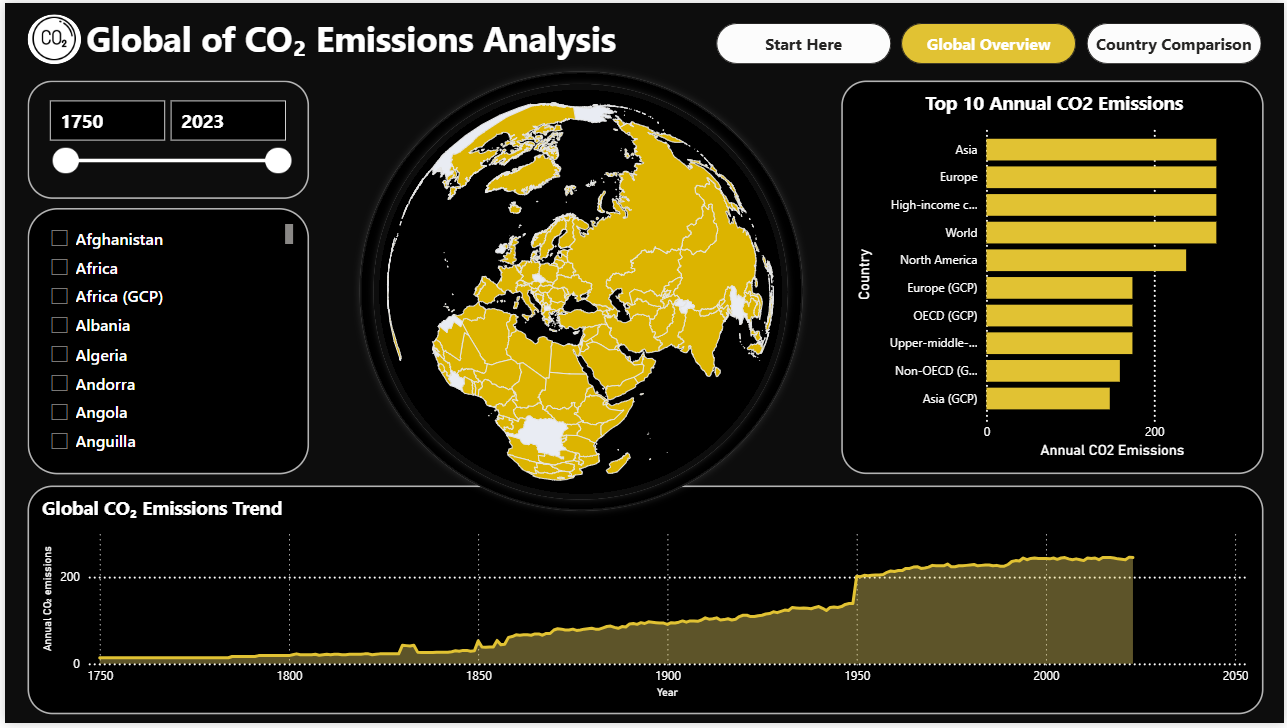

The page's visual inventory and layout, read from the dashboard file:
{"tool":"powerbi","page":{"name":"Global Overview","canvas":[1280,720],"ordinal":1},"visuals":[{"type":"areaChart","title":"Global CO₂ Emissions Trend","fields":{"Category":["annual-co2-emissions-per-country.Year"],"Y":["CountNonNull(annual-co2-emissions-per-country.Annual CO₂ emissions)"]},"box":[22.5,482.5,1236.2,228.8],"z":0},{"type":"textbox","title":"Global of CO₂ Emissions Analysis","box":[76.2,11.2,650,50],"z":1000},{"type":"shape","box":[347.5,61.2,457.5,453.8],"z":2000},{"type":"shape","box":[361.2,73.8,428.8,430],"z":3000},{"type":"slicer","fields":{"Values":["annual-co2-emissions-per-country.Country"]},"box":[22.5,205,281.2,266.2],"z":4000},{"type":"slicer","fields":{"Values":["annual-co2-emissions-per-country.Year"]},"box":[22.5,77.5,281.2,118.8],"z":5000},{"type":"clusteredBarChart","title":"Top 10 Annual CO2 Emissions","fields":{"Category":["annual-co2-emissions-per-country.Country"],"Y":["CountNonNull(annual-co2-emissions-per-country.Annual_CO2_emissions)"]},"box":[836.2,77.5,422.5,393.8],"z":6000},{"type":"shapeMap","fields":{"Category":["annual-co2-emissions-per-country.Country"],"Value":["Sum(annual-co2-emissions-per-country.Annual_CO2_emissions)"]},"box":[356.2,73.8,438.8,430],"z":7000},{"type":"shape","box":[22.5,11.2,53.8,50],"z":8000},{"type":"image","box":[18.8,7.5,61.2,56.2],"z":9000},{"type":"pageNavigator","box":[711.2,20,547.5,41.2],"z":10000}]}

Visuals, with their boxes in screenshot pixels (x1, y1, x2, y2), scaled from the page's 1280x720 canvas onto the 1287x728 screenshot:
"Global CO₂ Emissions Trend" areaChart: box=[23, 488, 1266, 719]
"Global of CO₂ Emissions Analysis" textbox: box=[77, 11, 730, 62]
shape: box=[349, 62, 809, 521]
shape: box=[363, 75, 794, 509]
slicer - annual-co2-emissions-per-country.Country: box=[23, 207, 305, 476]
slicer - annual-co2-emissions-per-country.Year: box=[23, 78, 305, 198]
"Top 10 Annual CO2 Emissions" clusteredBarChart: box=[841, 78, 1266, 477]
shapeMap - annual-co2-emissions-per-country.Country x Sum(annual-co2-emissions-per-country.Annual_CO2_emissions): box=[358, 75, 799, 509]
shape: box=[23, 11, 77, 62]
image: box=[19, 8, 80, 64]
pageNavigator: box=[715, 20, 1266, 62]
